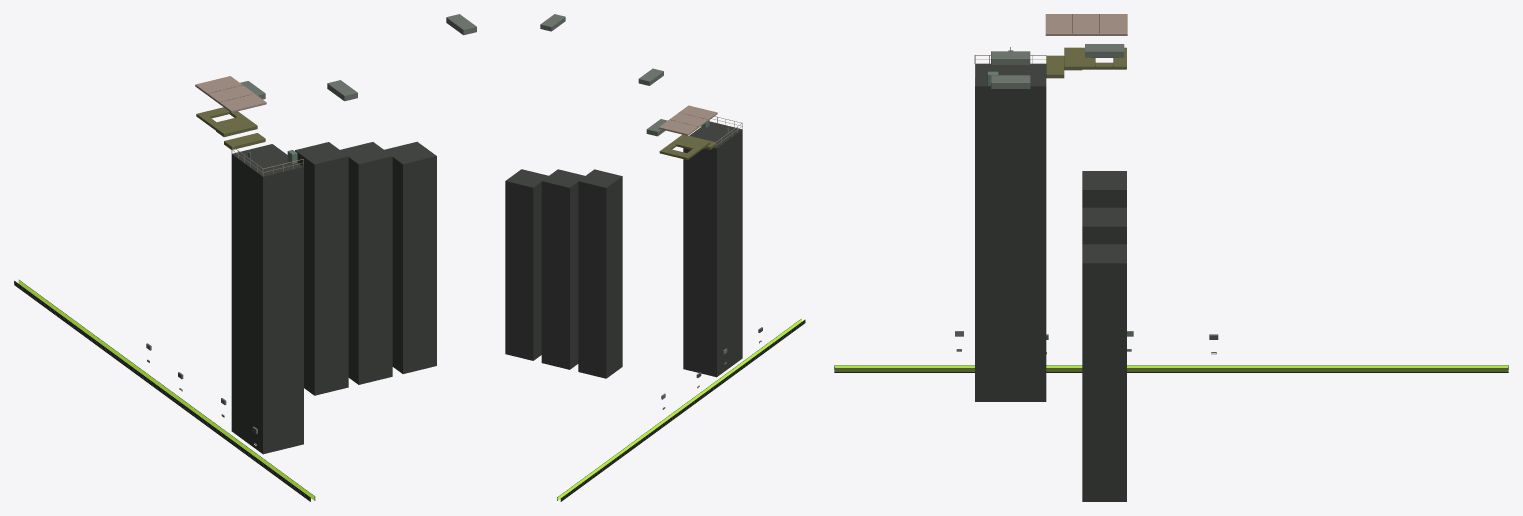
3 renders of one model, left to right at view 1: azimuth 30°, elevation 25°; view 2: azimuth 150°, elevation 25°; view 3: azimuth 270°, elevation 25°, orthographic. The views are drawn at different scales.
Visible parts, largest first — view 1: pm1_m3; view 2: pm1_m3; view 3: pm1_m3.
Boxes of the visible parts, left/top/right/bottom form: pm1_m3: left=14, top=14, right=476, bottom=501; pm1_m3: left=505, top=14, right=805, bottom=501; pm1_m3: left=834, top=14, right=1508, bottom=501.
Bounding box in the file's own units: 34.81 × 51.82 × 75.5.
